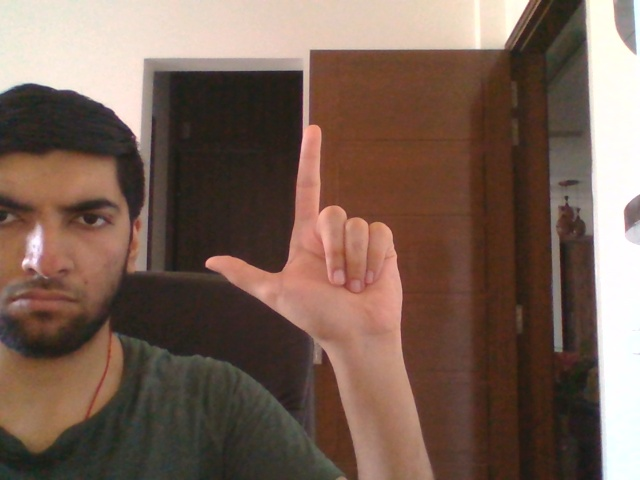LetterL: (204, 123, 403, 348)
